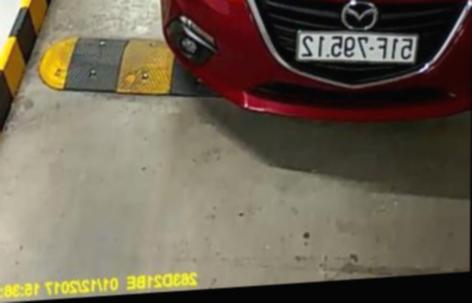License_Plate: (293, 26, 422, 71)
